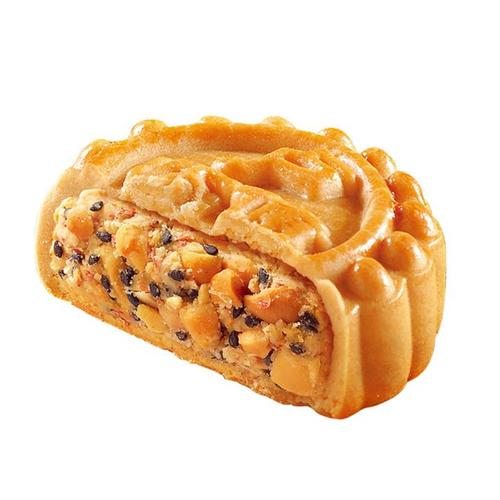MoonCake: (33, 113, 447, 419)
